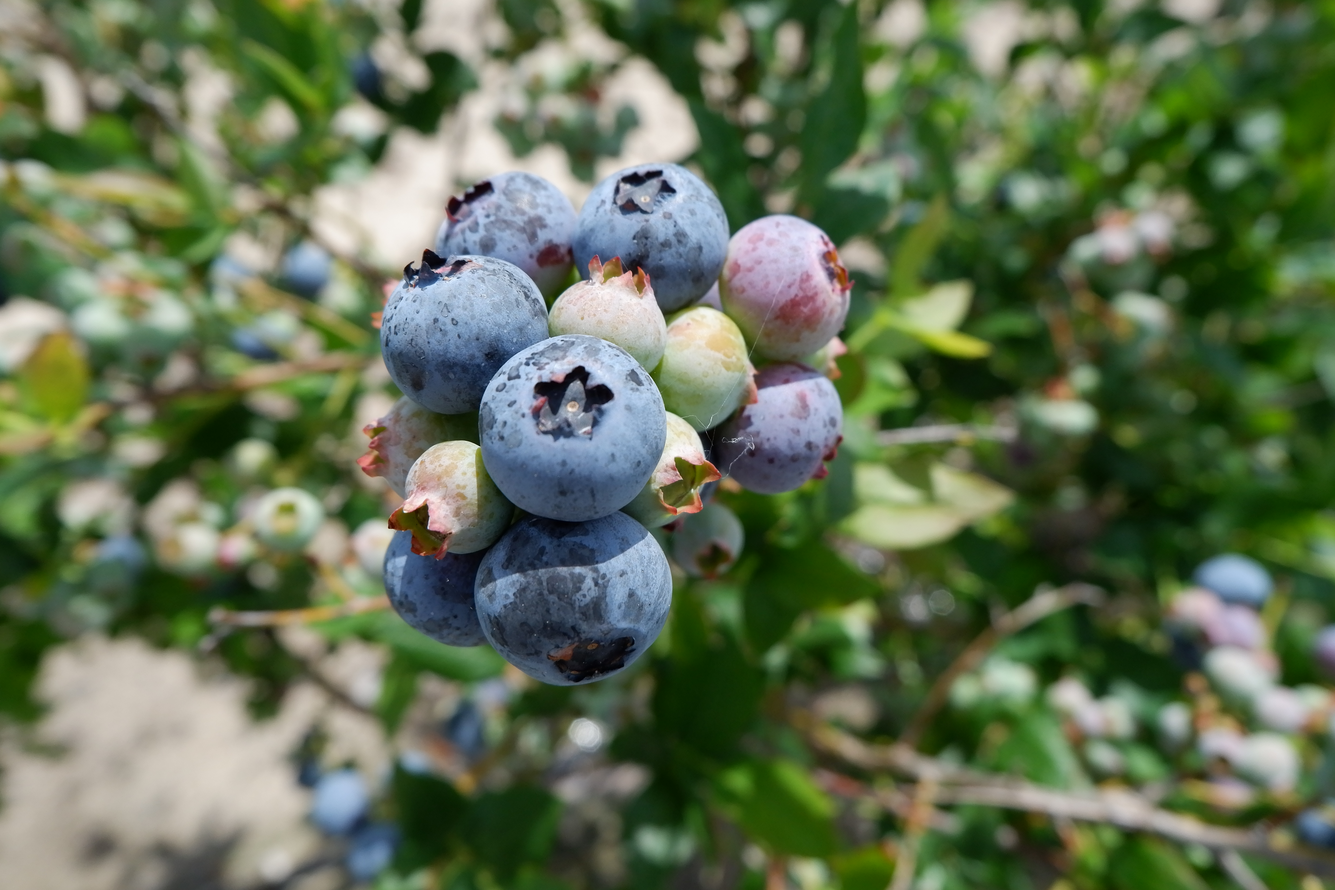Immature: (721, 220, 850, 357), (394, 444, 512, 551), (551, 264, 663, 368), (654, 307, 750, 428), (621, 410, 718, 528), (360, 400, 468, 495), (675, 504, 742, 576), (794, 339, 844, 374)
Mature: (479, 338, 661, 518), (474, 516, 669, 683), (380, 252, 550, 411), (574, 167, 726, 309), (436, 173, 575, 299), (706, 363, 841, 491), (383, 531, 482, 643)
